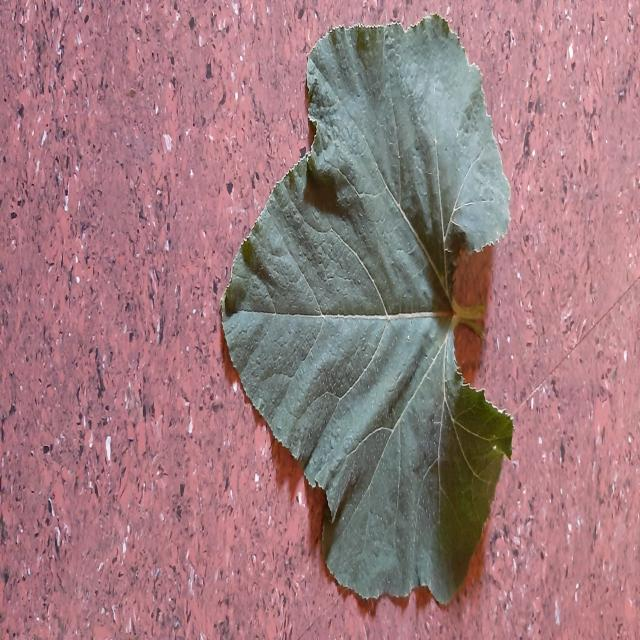pumpkin: (222, 16, 512, 602)
